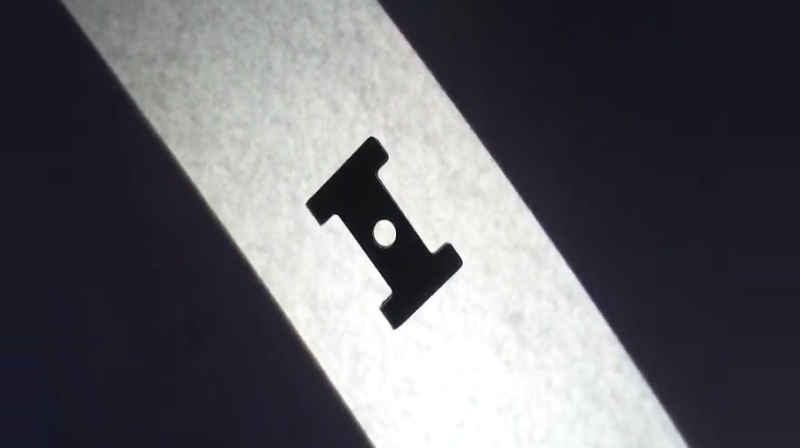O002: (303, 132, 468, 333)
